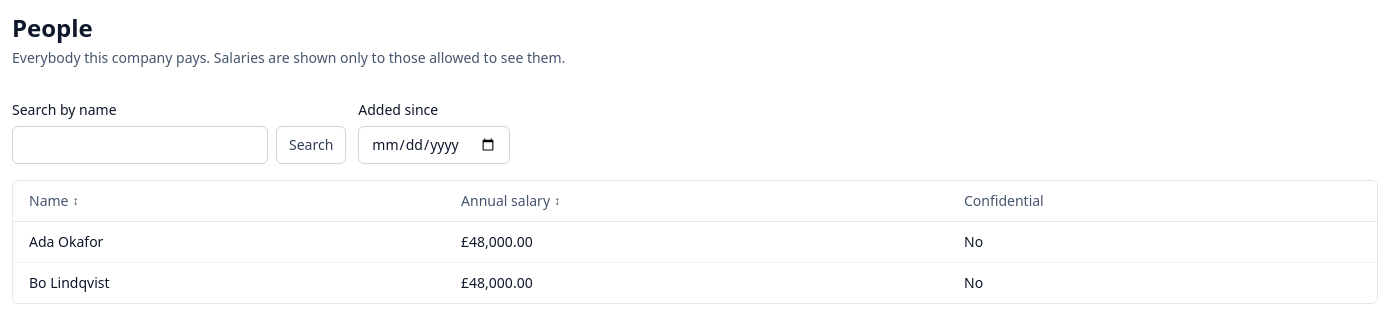
Test: EmployeesPage › filters on the server, under the platform`s filter convention
Expected: the text "Ada Okafor" is shown, x1=13 y1=222 x2=445 y2=262
Type "2026-07-01" into the date field labelled "Added since". click: [434, 145]
box: x1=358 y1=126 x2=510 y2=164
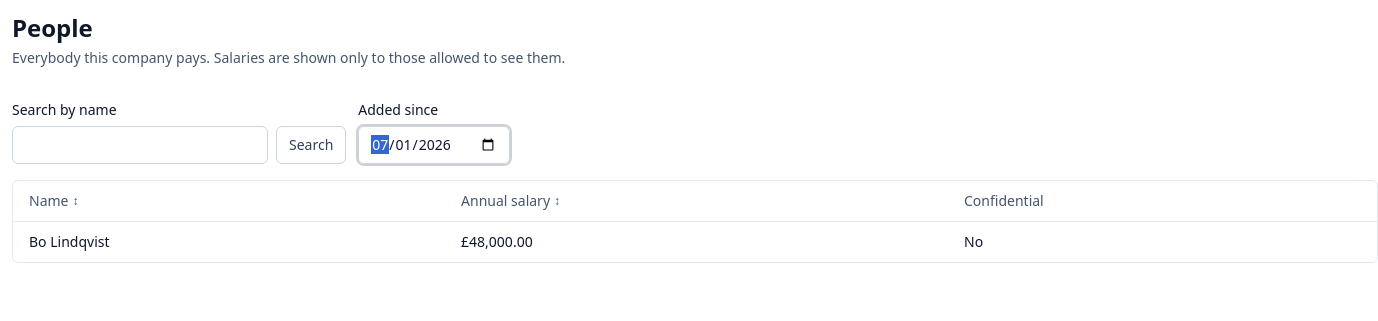
Expected: the text "Bo Lindqvist" is shown, x1=13 y1=222 x2=445 y2=262
Now the text "Ada Okafor" is gone
